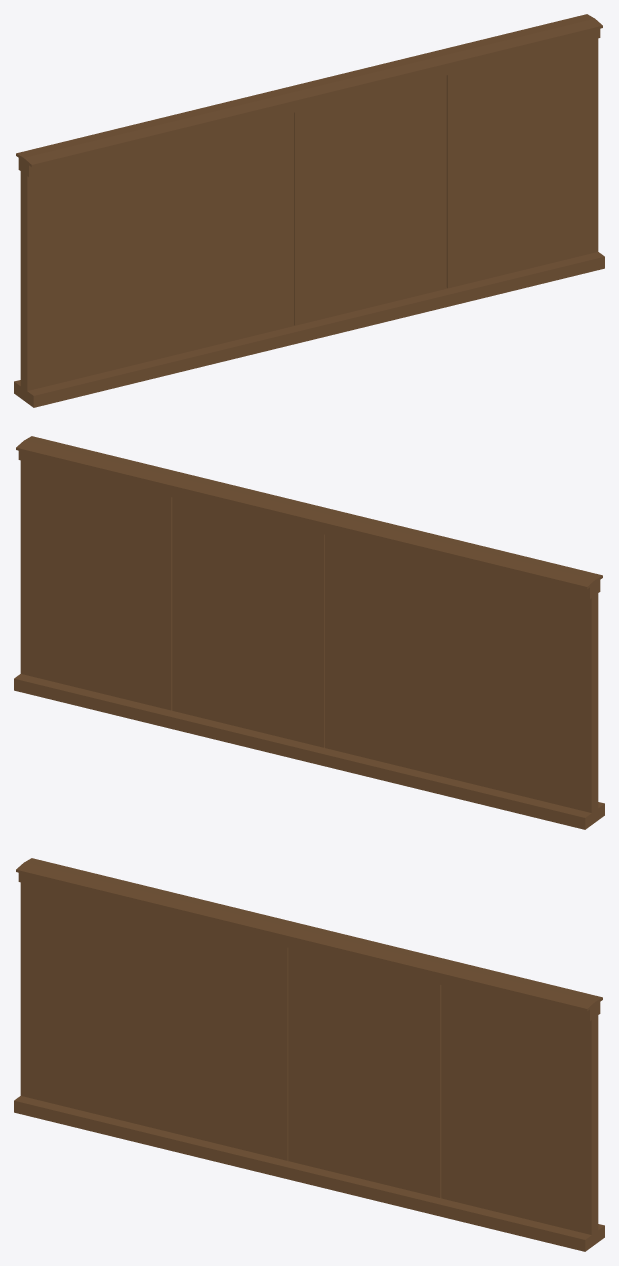
Rendered from wall-japan_wood.glb.
The picture shows the model from 3 angles, top to bottom: view 1: azimuth 30°, elevation 25°; view 2: azimuth 150°, elevation 25°; view 3: azimuth 330°, elevation 25°; orthographic projection.
Parts seen in each view (by area): view 1: wall-japan_wood; view 2: wall-japan_wood; view 3: wall-japan_wood.
Boxes of the visible parts, x1,y1,x2,y2 form: wall-japan_wood: [14, 14, 604, 407]; wall-japan_wood: [14, 436, 604, 829]; wall-japan_wood: [14, 858, 604, 1251].
Size of the model in its own units: 5 by 2.03 by 0.3.
1 material, 1 textured.
